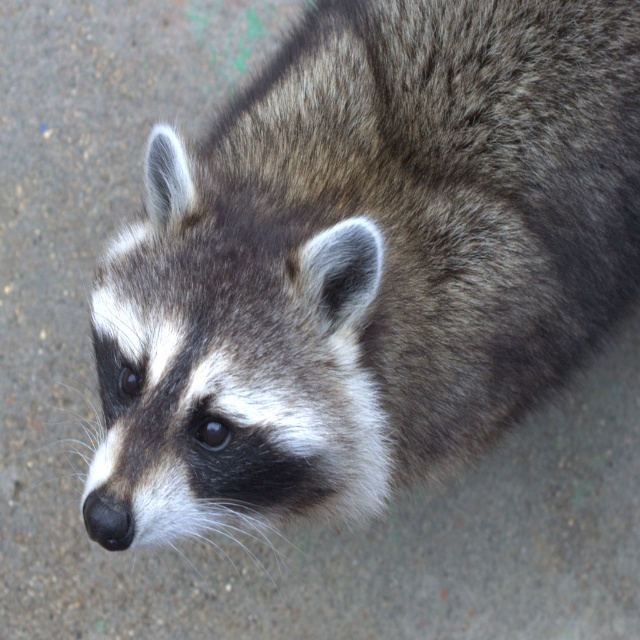Raccoon: (42, 0, 640, 591)
